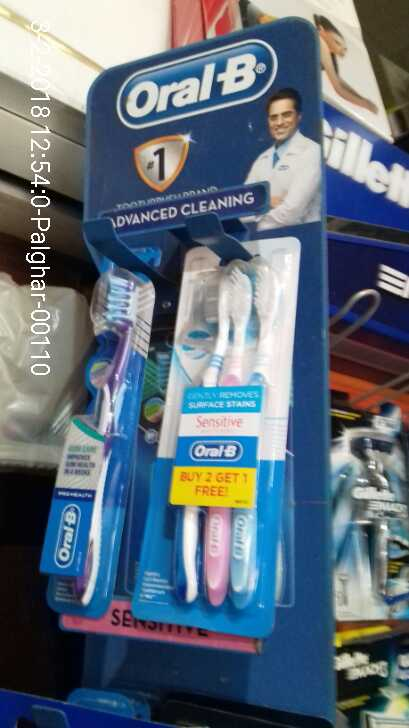oralb: (45, 269, 159, 593), (174, 261, 272, 606)
